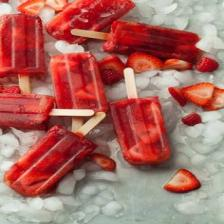red: (51, 20, 218, 112), (1, 0, 135, 78), (4, 126, 98, 197), (110, 97, 171, 166), (1, 86, 53, 130), (169, 82, 224, 111), (164, 169, 201, 193), (91, 153, 117, 171), (182, 113, 203, 126)
